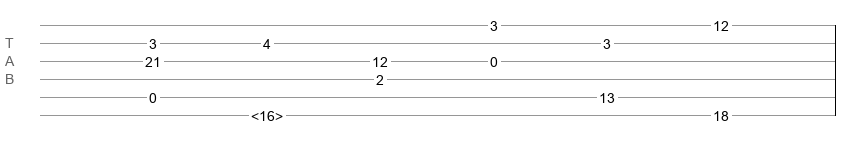0: (149, 90, 157, 100), (490, 54, 498, 64)
12: (372, 54, 388, 64), (713, 18, 729, 28)
13: (599, 90, 615, 100)
18: (713, 108, 729, 118)
2: (376, 72, 384, 82)
21: (145, 54, 161, 64)
3: (149, 36, 157, 46), (490, 18, 498, 28), (603, 36, 611, 46)
4: (263, 36, 271, 46)
harmonic: (251, 108, 283, 118)
